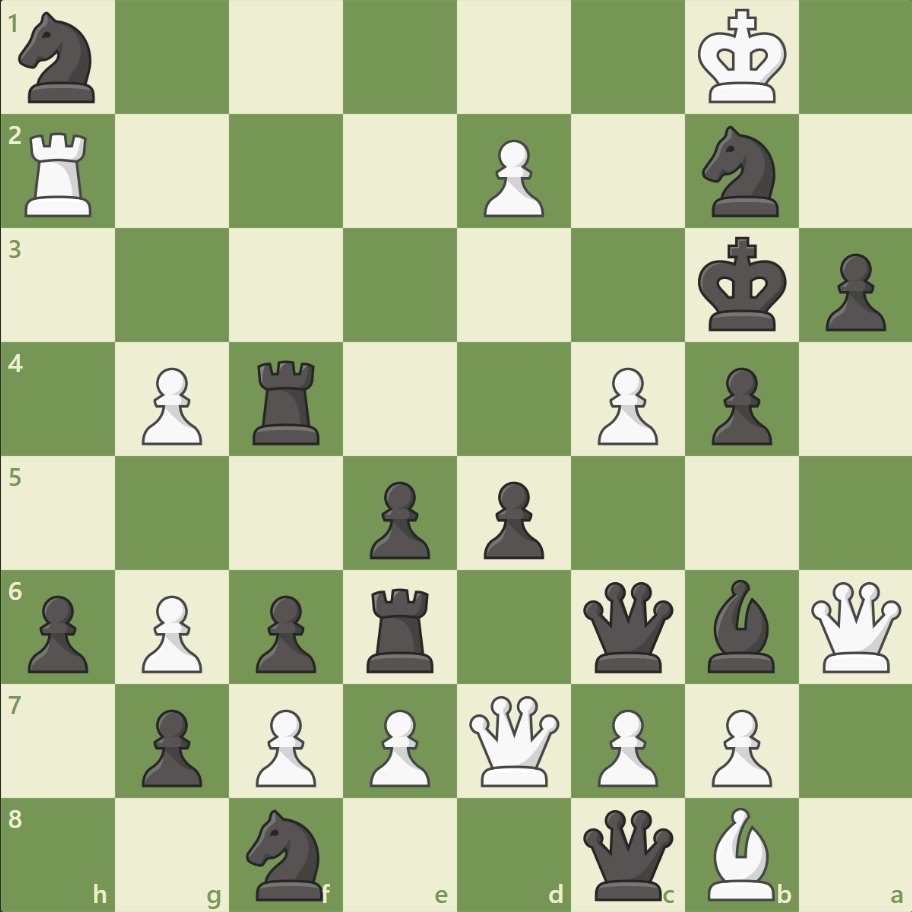B: (698, 801, 782, 904)
K: (692, 4, 792, 112)
P: (701, 700, 776, 791), (247, 700, 322, 791), (133, 586, 208, 677), (133, 359, 208, 450), (474, 132, 549, 223), (588, 700, 662, 791), (361, 700, 435, 791), (588, 359, 662, 450)
Q: (805, 576, 904, 676), (464, 690, 563, 789)
R: (19, 125, 102, 222)
b: (698, 574, 782, 676)
k: (692, 231, 792, 339)
n: (11, 7, 108, 110), (238, 802, 335, 904), (692, 121, 789, 223)
p: (133, 700, 208, 791), (247, 586, 322, 677), (20, 586, 95, 677), (474, 473, 549, 564), (701, 359, 776, 450), (361, 473, 435, 564), (815, 246, 889, 337)
q: (578, 576, 677, 676), (578, 804, 677, 903)
r: (246, 352, 329, 449), (360, 579, 442, 676)
